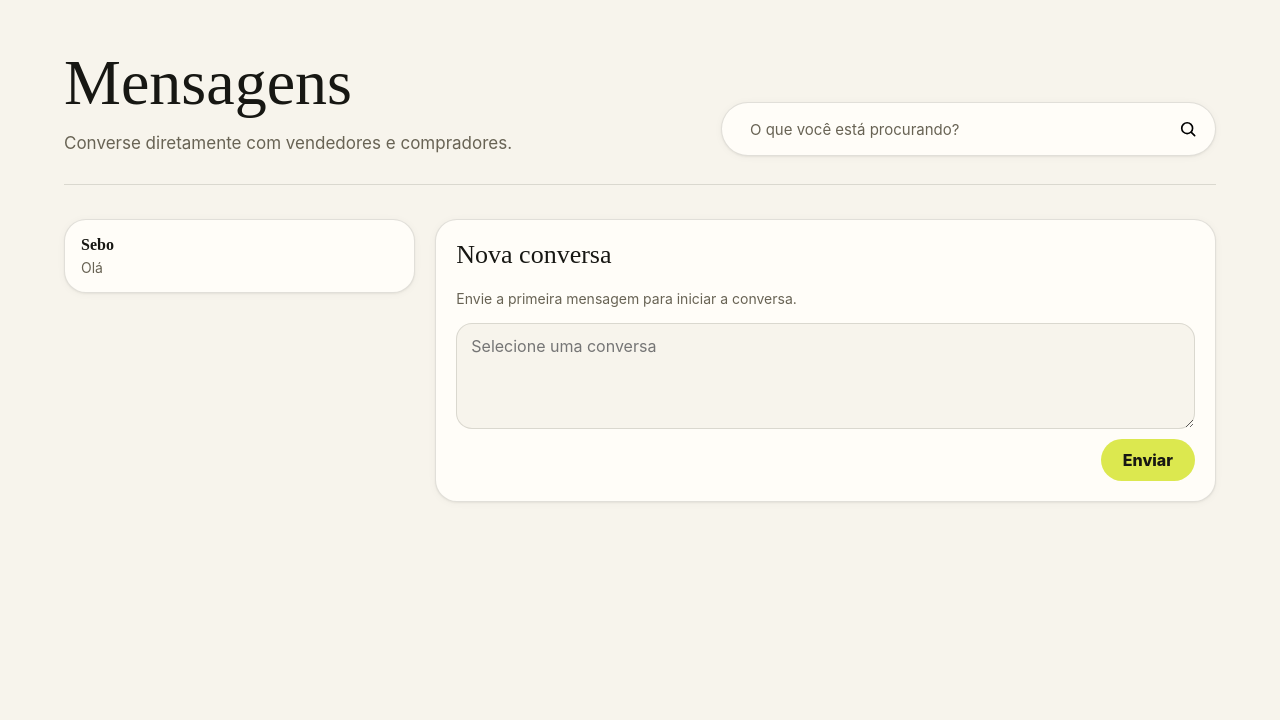
Test: ramos alternativos e interacoes › seleciona conversa existente e trata falhas de conversa e envio
Click the button "Sebo Olá" at (97, 245), box left=65, top=220, right=414, bottom=292
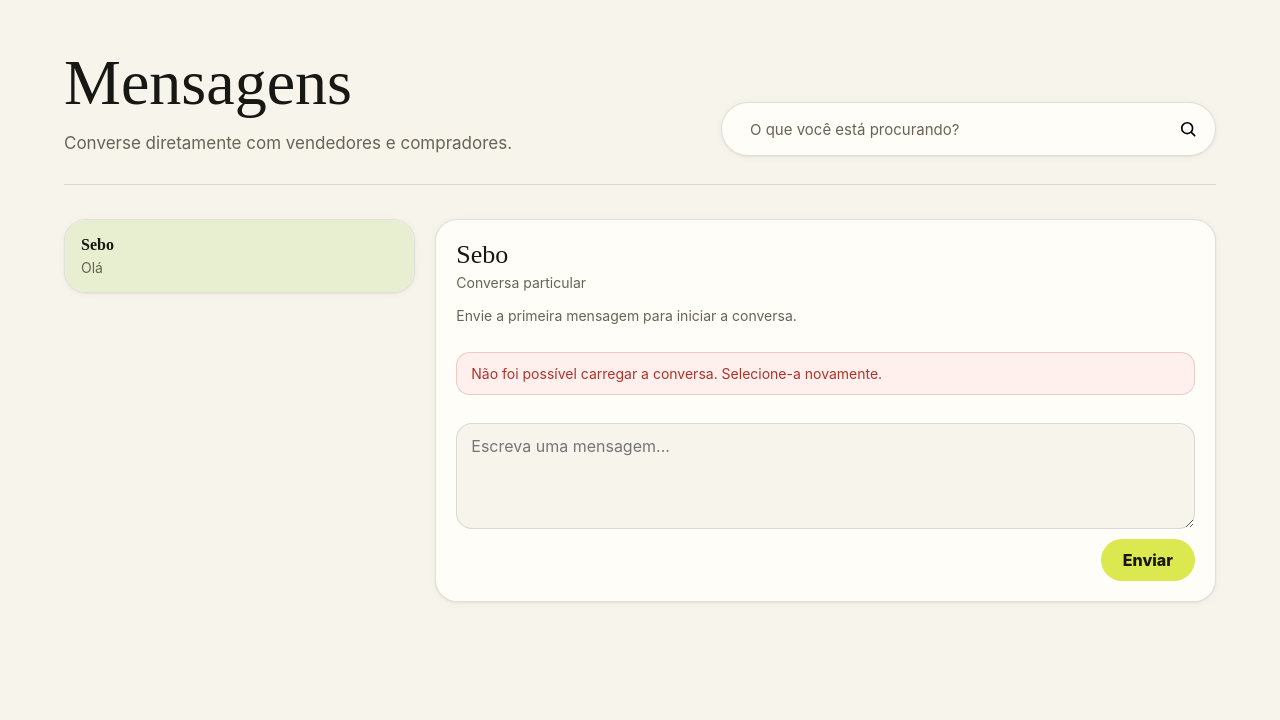
Result: the message reads "Não foi possível carregar a conversa. Selecione-a novamente." at left=471, top=365, right=882, bottom=382
Type "Teste" into the text box labelled "mensagem" at (826, 476), box left=456, top=423, right=1195, bottom=529
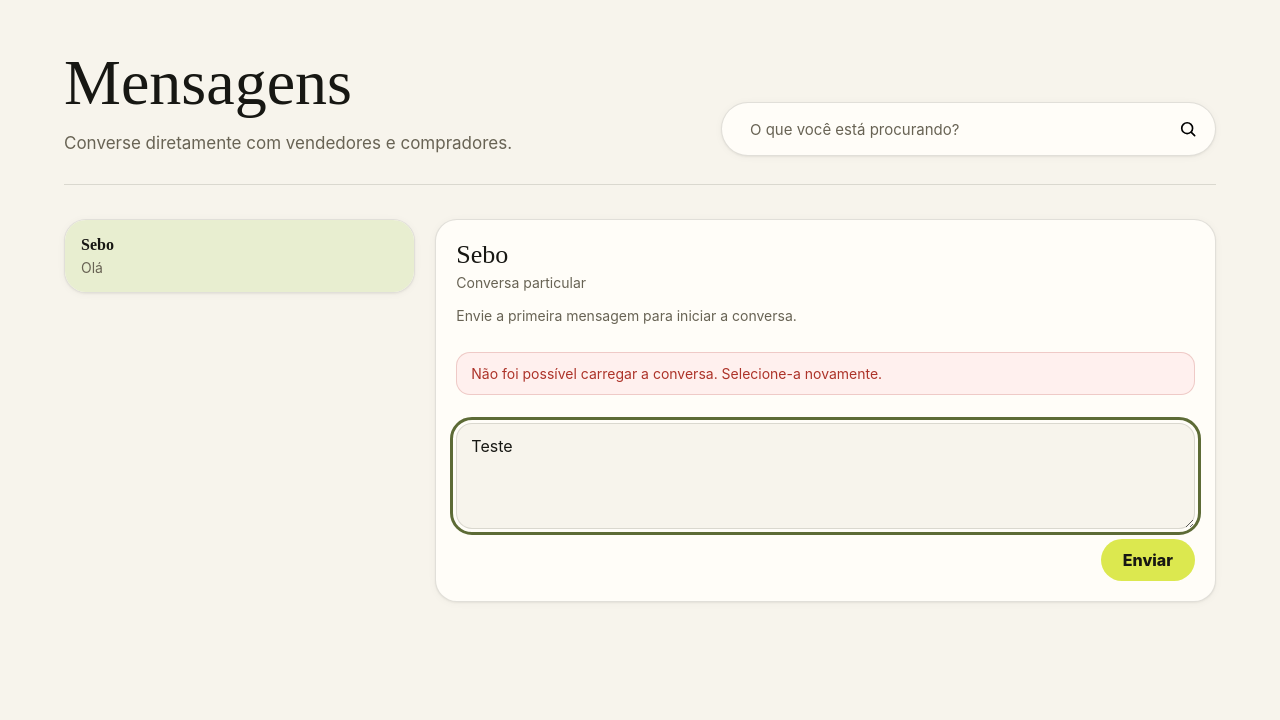
Click the button "Enviar" at (1148, 560), box left=1101, top=539, right=1195, bottom=581
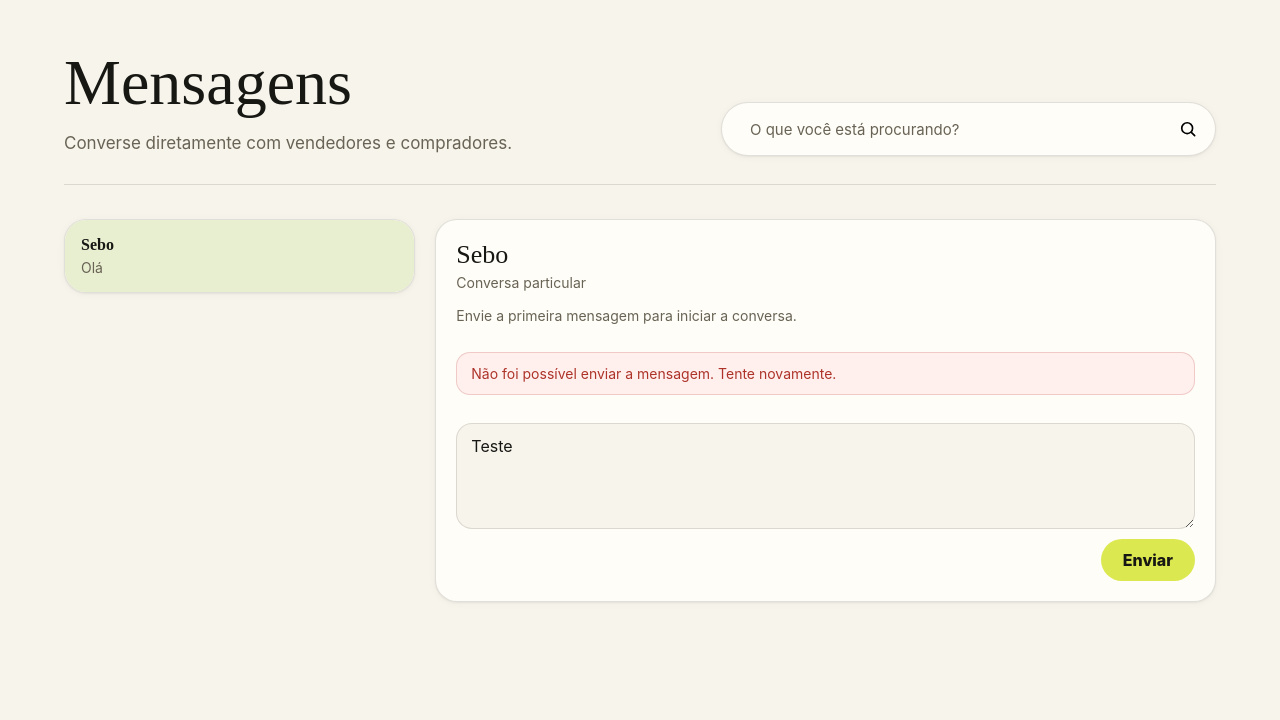
Result: the message reads "Não foi possível enviar a mensagem. Tente novamente." at left=471, top=365, right=836, bottom=382
